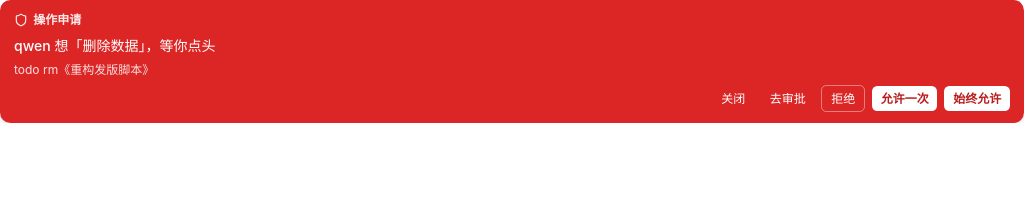
Scenario: 授权横幅（0dfff6df）：撞守卫要有出路，且不能把人晾在半路 › 撞守卫后出现「仍然删除」+「取消」，且过了自动收的那一窗它还在（等着人点）
This screenshot has width=1024, height=208.
Click the button "允许一次" at (905, 99), box [872,86,938,111]
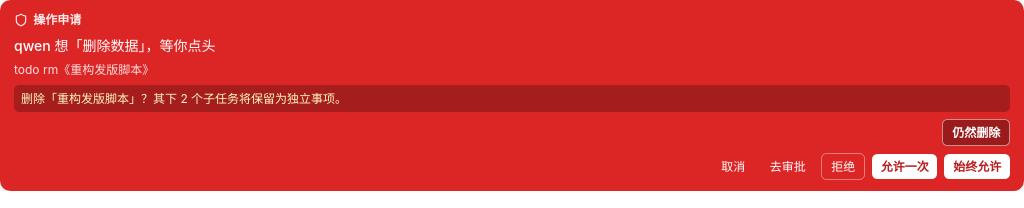
Result: the text "删除「重构发版脚本」？其下 2 个子任务将保留为独立事项。" is shown at [14,85,1010,112]
Result: the button "取消" is shown at [712,154,754,179]
Result: the button "关闭" is gone
